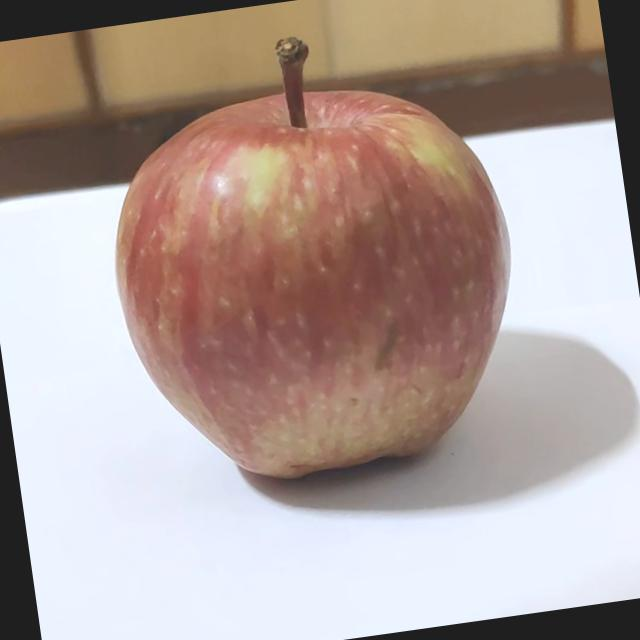apple: (89, 11, 554, 516)
